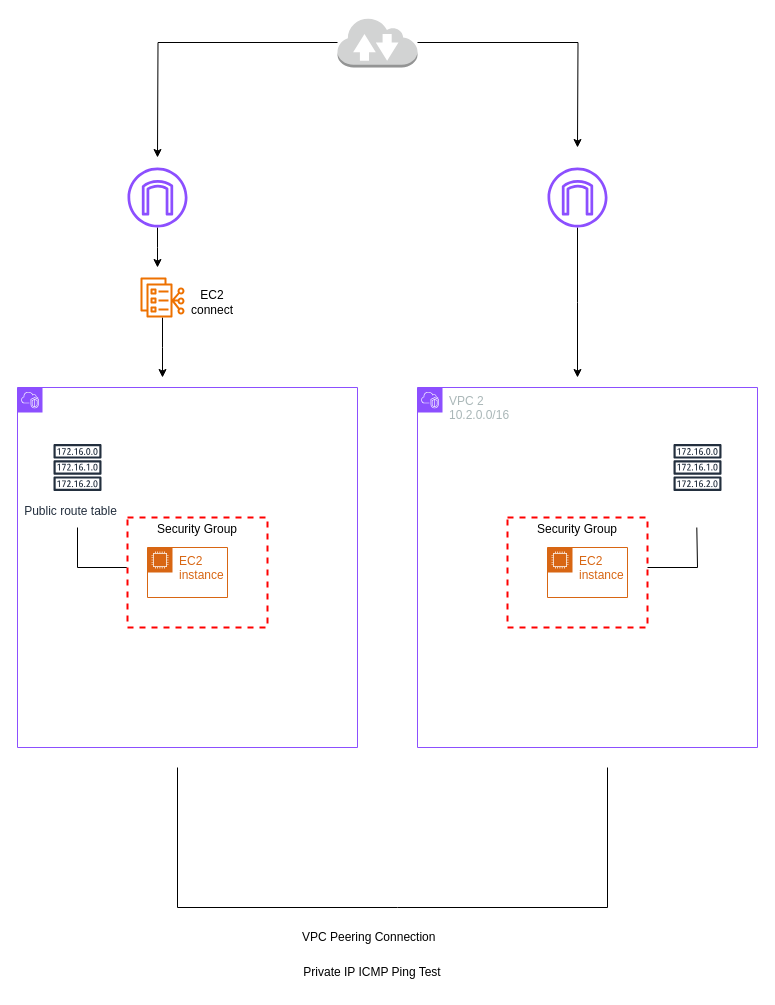
Some shapes in this 775 by 1005 pixel diagram are drawn without their labels. Each missing label, with the box of its shape:
Private route table: (666, 436, 728, 498)
VPC 1 10.1.0.0/16: (16, 386, 358, 748)
